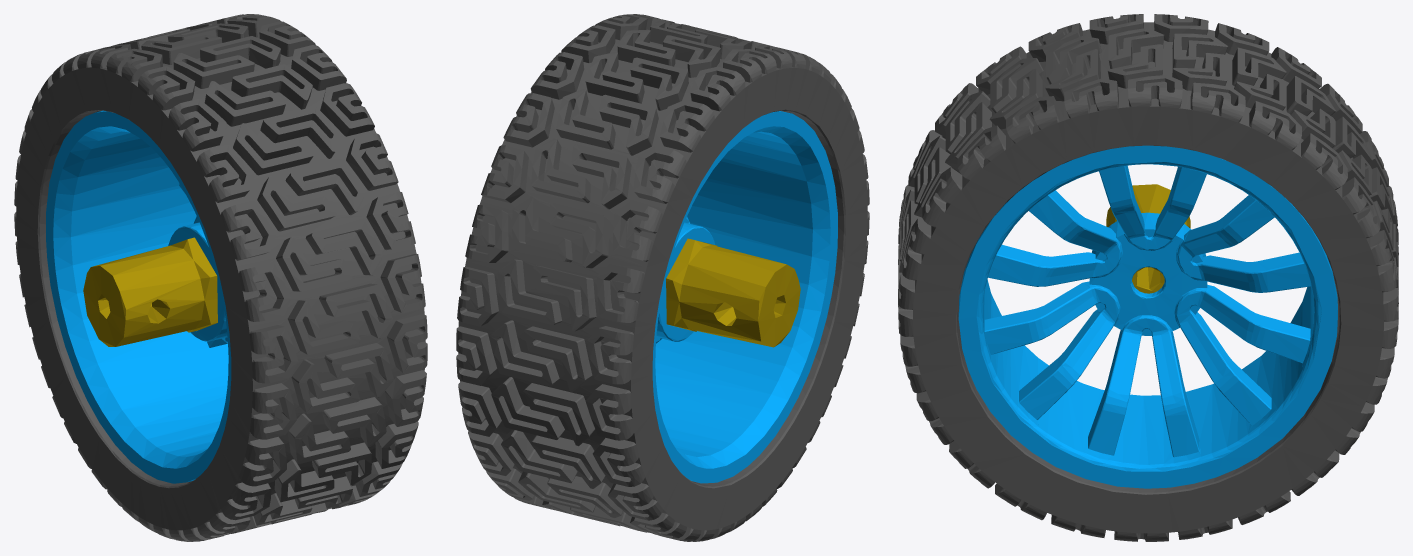
The model's file is wheel_light.dae.
3 views of the same model, side by side, from view 1: azimuth 30°, elevation 25°; view 2: azimuth 150°, elevation 25°; view 3: azimuth 270°, elevation 25° (orthographic).
Parts seen in each view (by area): view 1: node1, node0, node2; view 2: node1, node0, node2; view 3: node1, node0, node2.
Boxes of the visible parts, bbox=[...] form: node1: bbox=[14, 14, 427, 541]; node0: bbox=[46, 110, 231, 483]; node2: bbox=[83, 237, 217, 346]; node1: bbox=[456, 14, 869, 541]; node0: bbox=[652, 111, 837, 483]; node2: bbox=[666, 238, 800, 347]; node1: bbox=[898, 14, 1398, 541]; node0: bbox=[958, 145, 1337, 488]; node2: bbox=[1106, 184, 1190, 293].
Bounding box in the file's own units: 0.0318 × 0.068 × 0.068.
